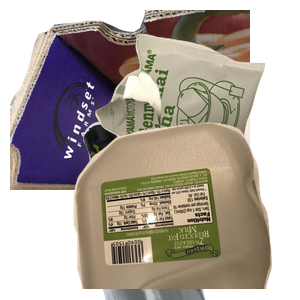cardboard: (10, 10, 250, 190)
glass: (81, 120, 300, 300)
plastic: (71, 120, 300, 300)
trash: (93, 31, 300, 205)
